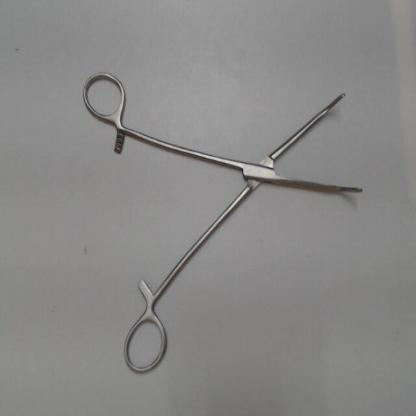Lahey Forceps: (78, 60, 366, 381)
